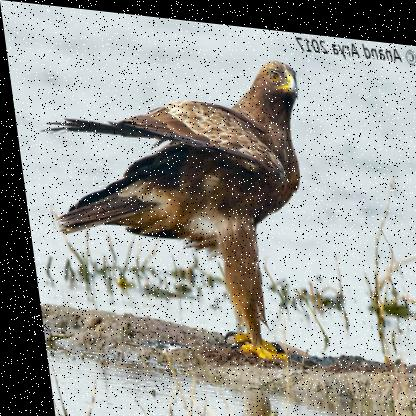Burung: (33, 33, 326, 355)
